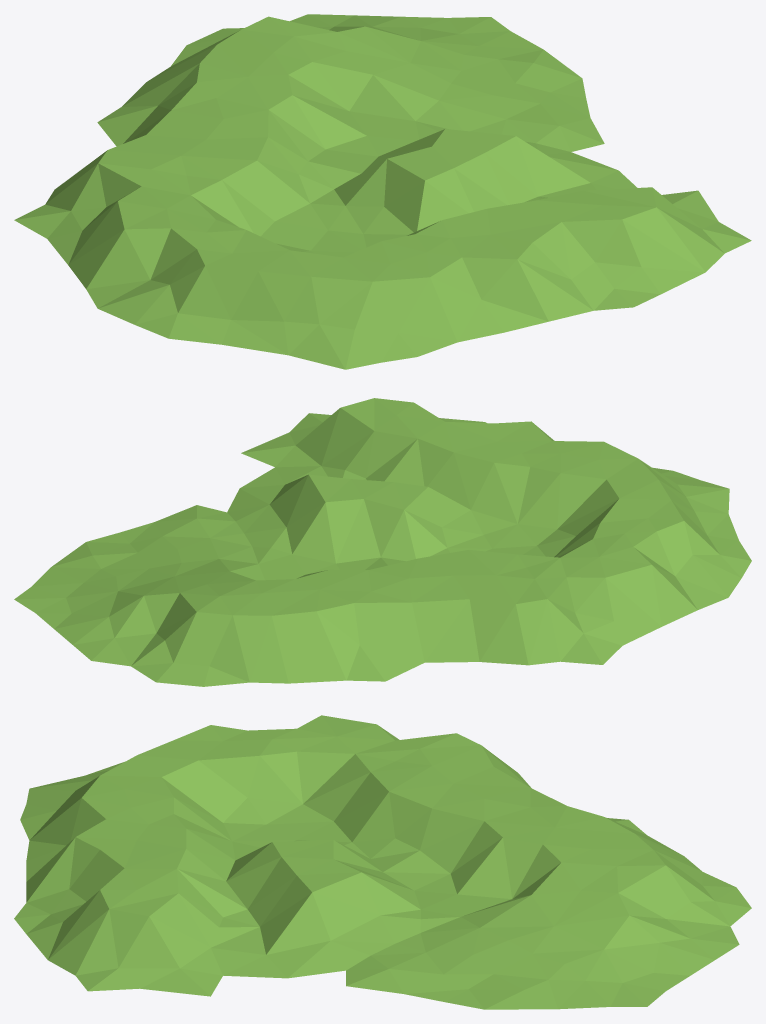
Rendered from MT_Mountain_M_c_04.fbx.
The picture shows the model from 3 angles, top to bottom: view 1: azimuth 30°, elevation 25°; view 2: azimuth 150°, elevation 25°; view 3: azimuth 270°, elevation 25°; orthographic projection. The views are drawn at different scales.
Visible parts, largest first — view 1: MT_Mountain_M_c_04; view 2: MT_Mountain_M_c_04; view 3: MT_Mountain_M_c_04.
Part boxes in pixels (left/top/right/bottom): MT_Mountain_M_c_04: left=14, top=14, right=751, bottom=369; MT_Mountain_M_c_04: left=14, top=398, right=751, bottom=686; MT_Mountain_M_c_04: left=14, top=715, right=751, bottom=1009.
Bounding box in the file's own units: 4180 × 320 × 4688.
